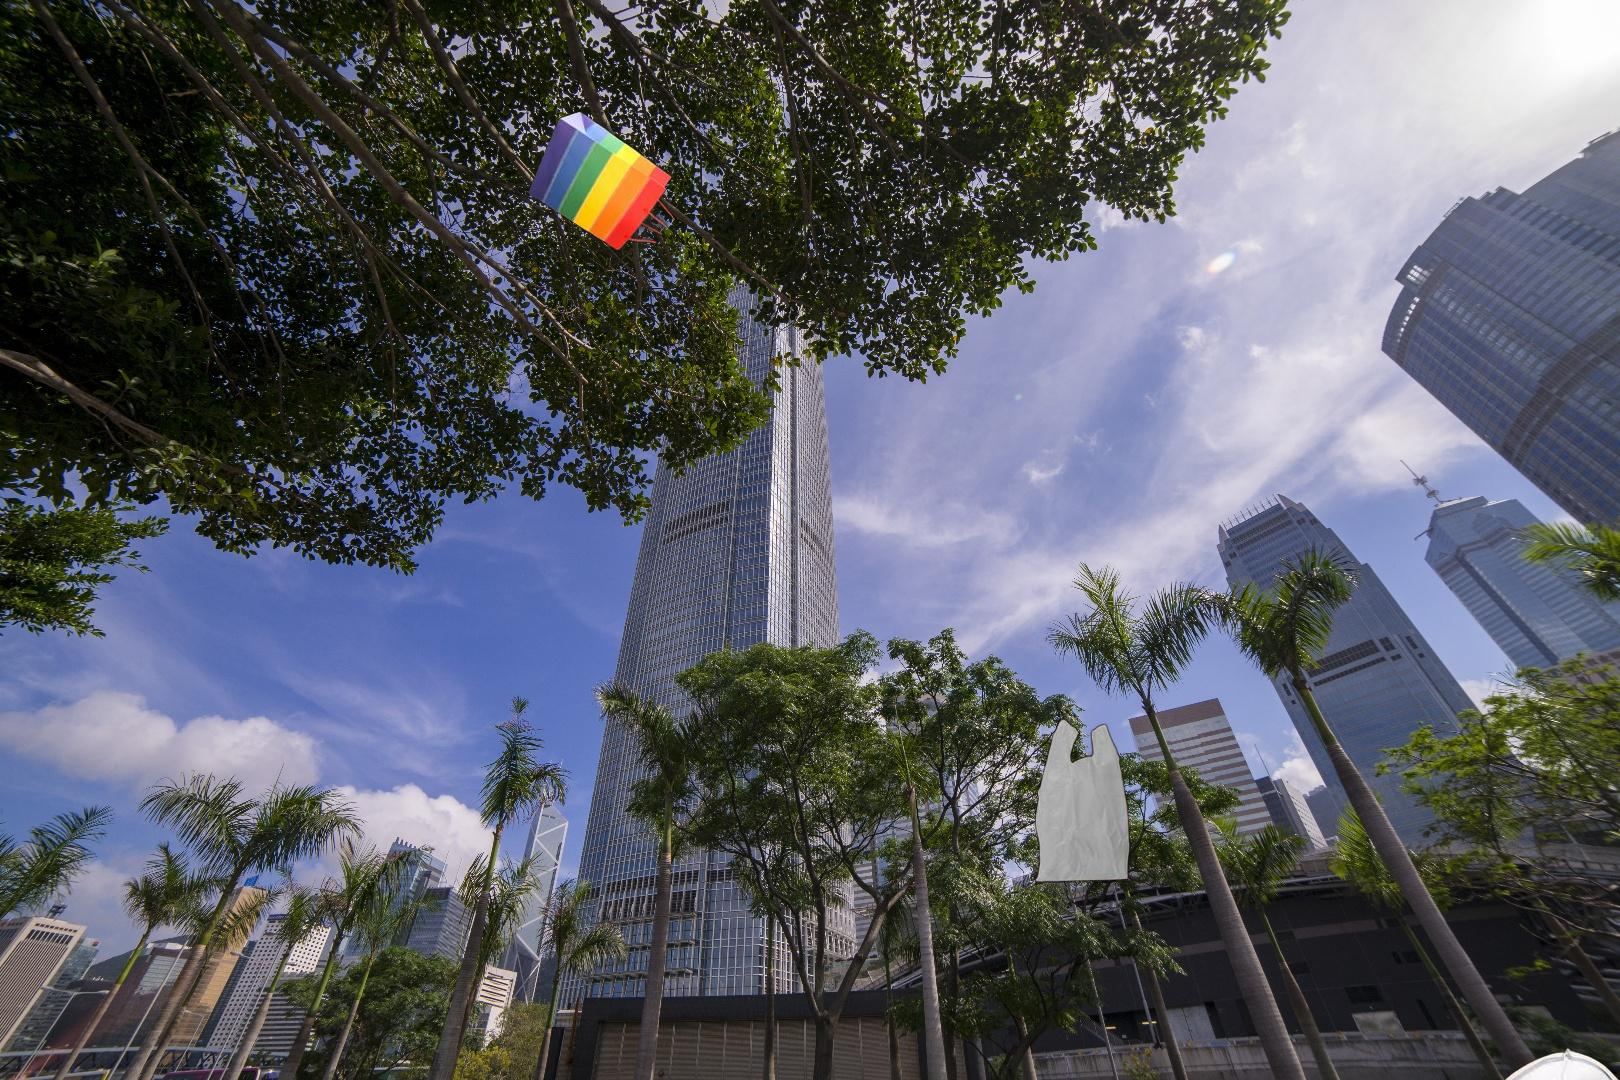paper-bag: (526, 110, 677, 254)
plastic-bag: (1032, 718, 1138, 884)
trash: (1431, 1045, 1620, 1080)
trashbox-cardboard: (301, 811, 791, 1080)
